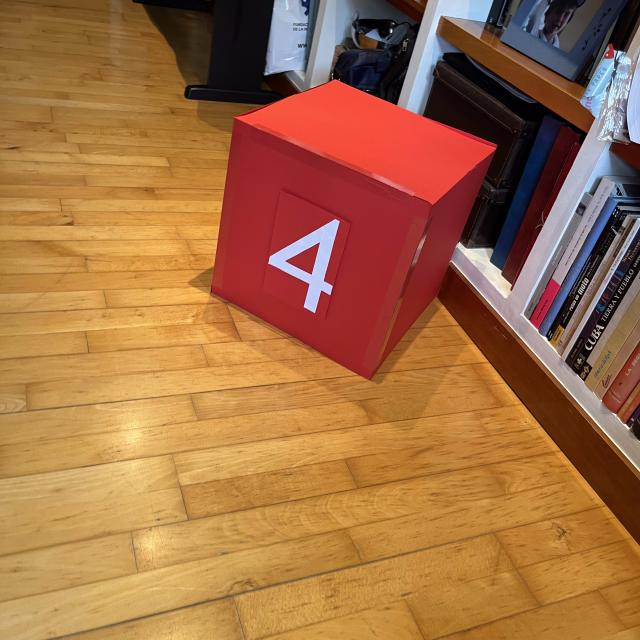box: (208, 77, 497, 381)
